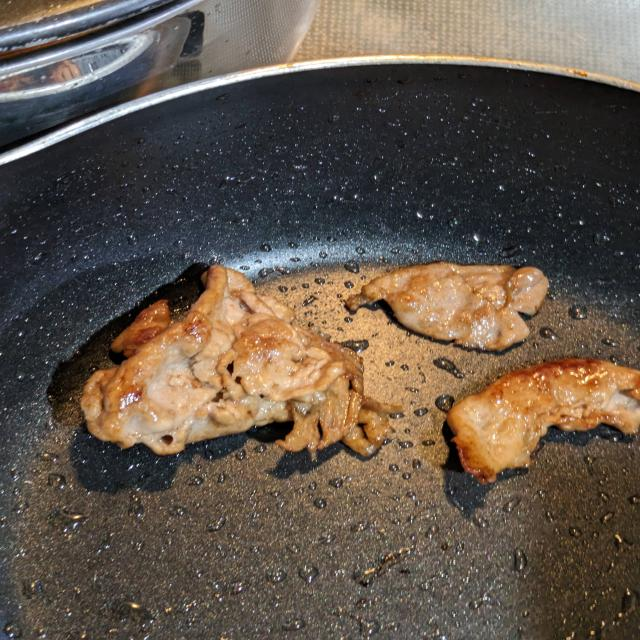OK cooked pork,: (75, 251, 406, 460), (433, 352, 640, 491), (346, 257, 568, 363)
